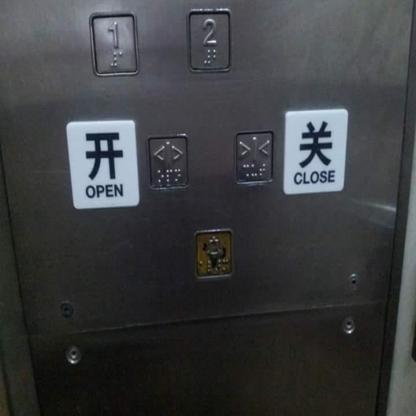1: (87, 7, 142, 79)
2: (184, 5, 233, 76)
alarm: (192, 224, 234, 281)
close: (232, 126, 275, 188)
open: (144, 131, 191, 192)
